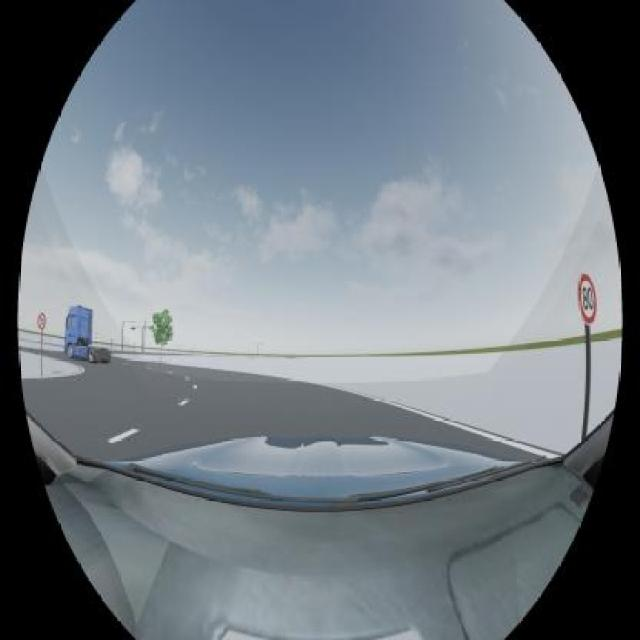forb_speed_over_80: (578, 274, 598, 325)
